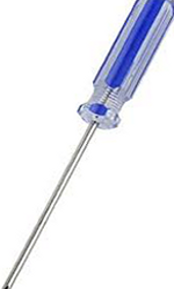Screwdriver: (4, 4, 173, 289)
